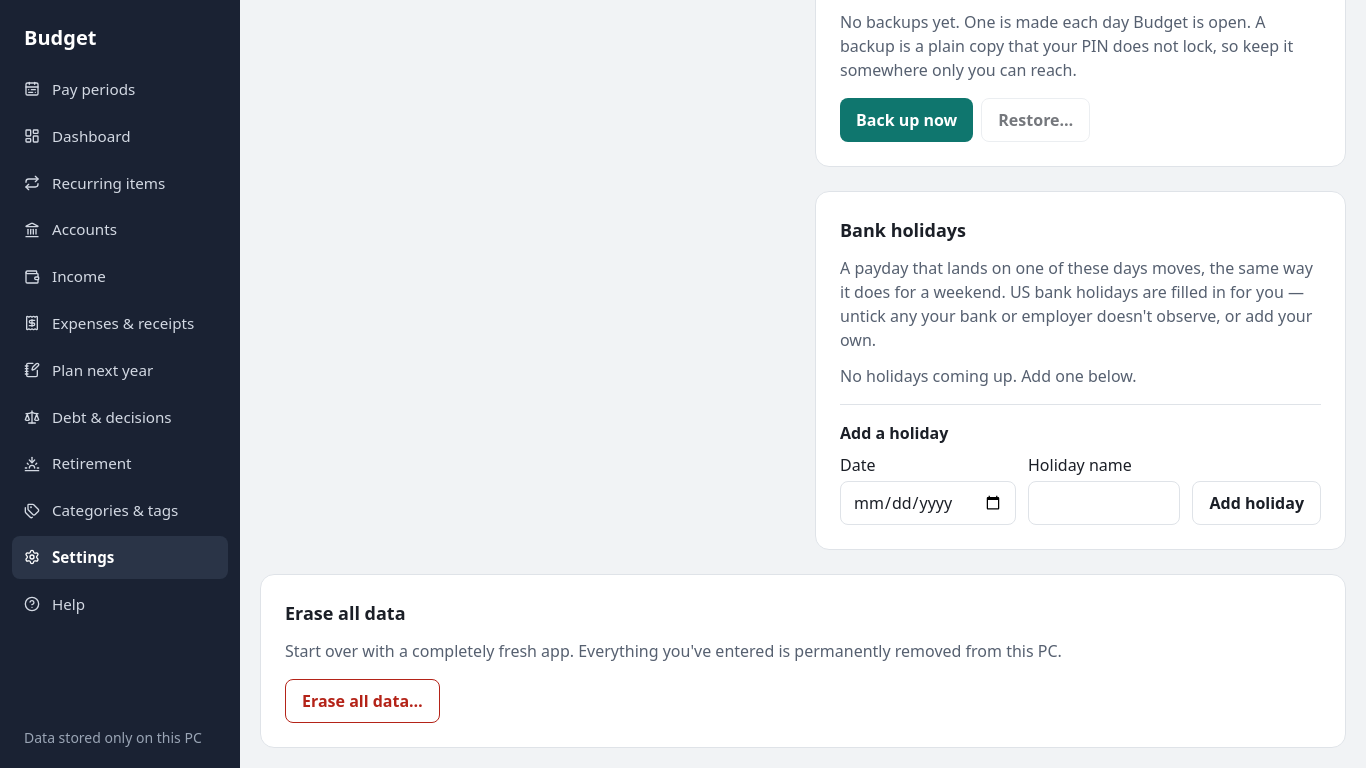
erase all data › keeps everything when the person backs out
(page scrolled)
Click the button "Erase all data…": (362,701) [285,679,440,723]
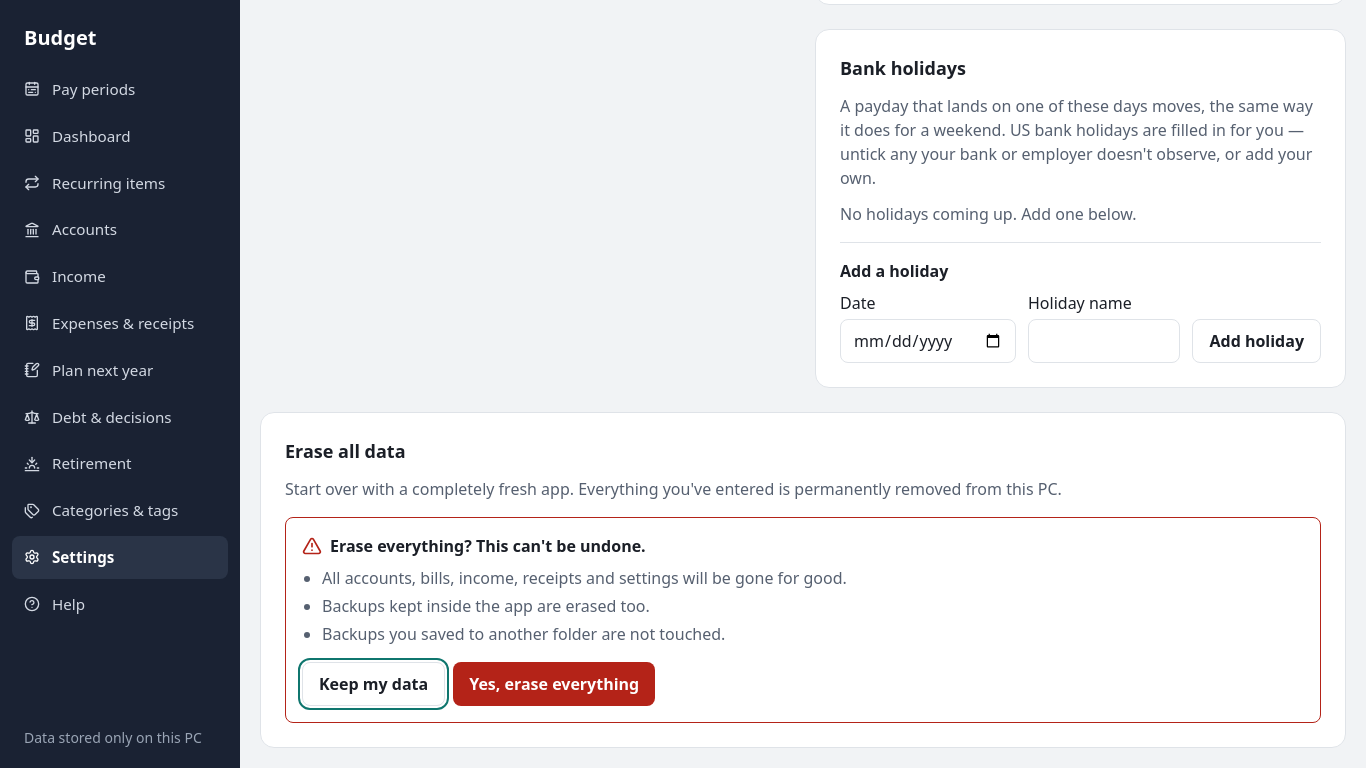
Click the button "Keep my data": (374,684) [302,662,445,706]
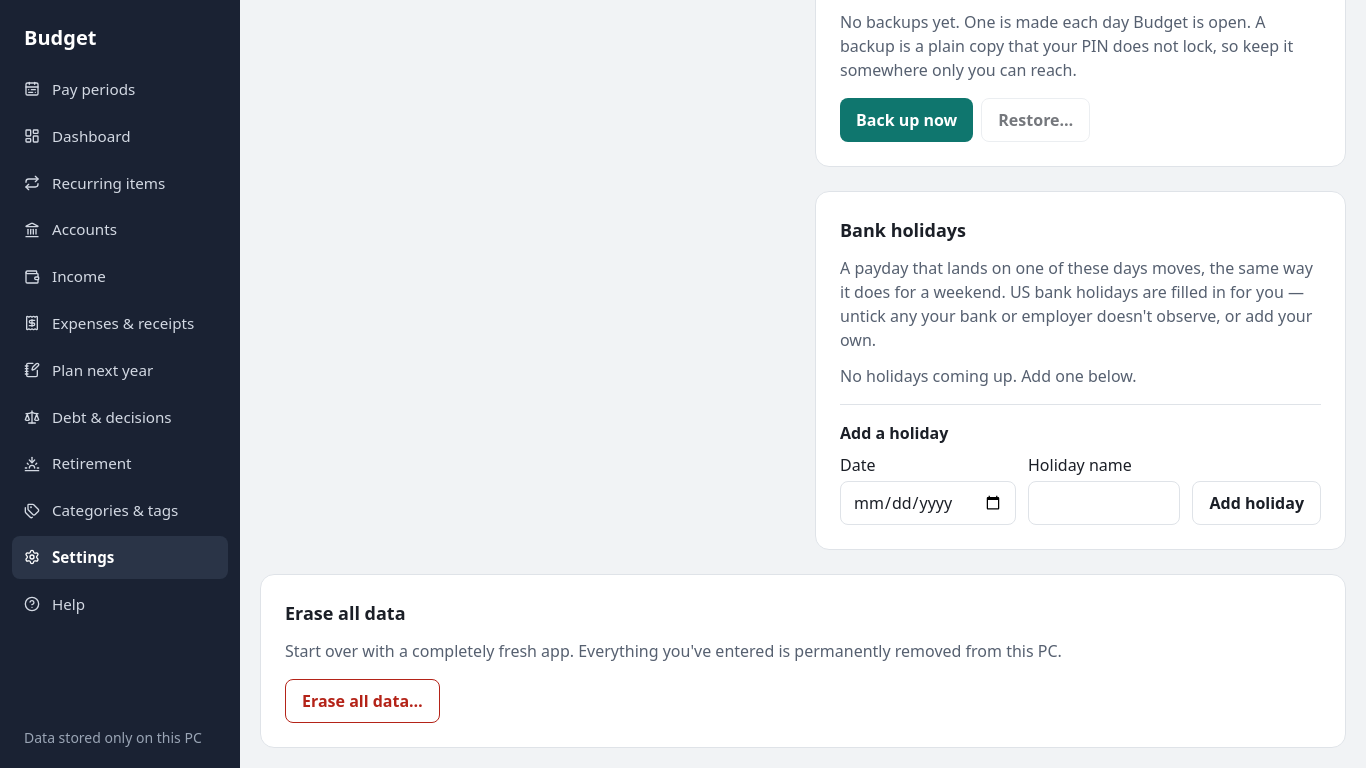
Expected: the dialog is gone
